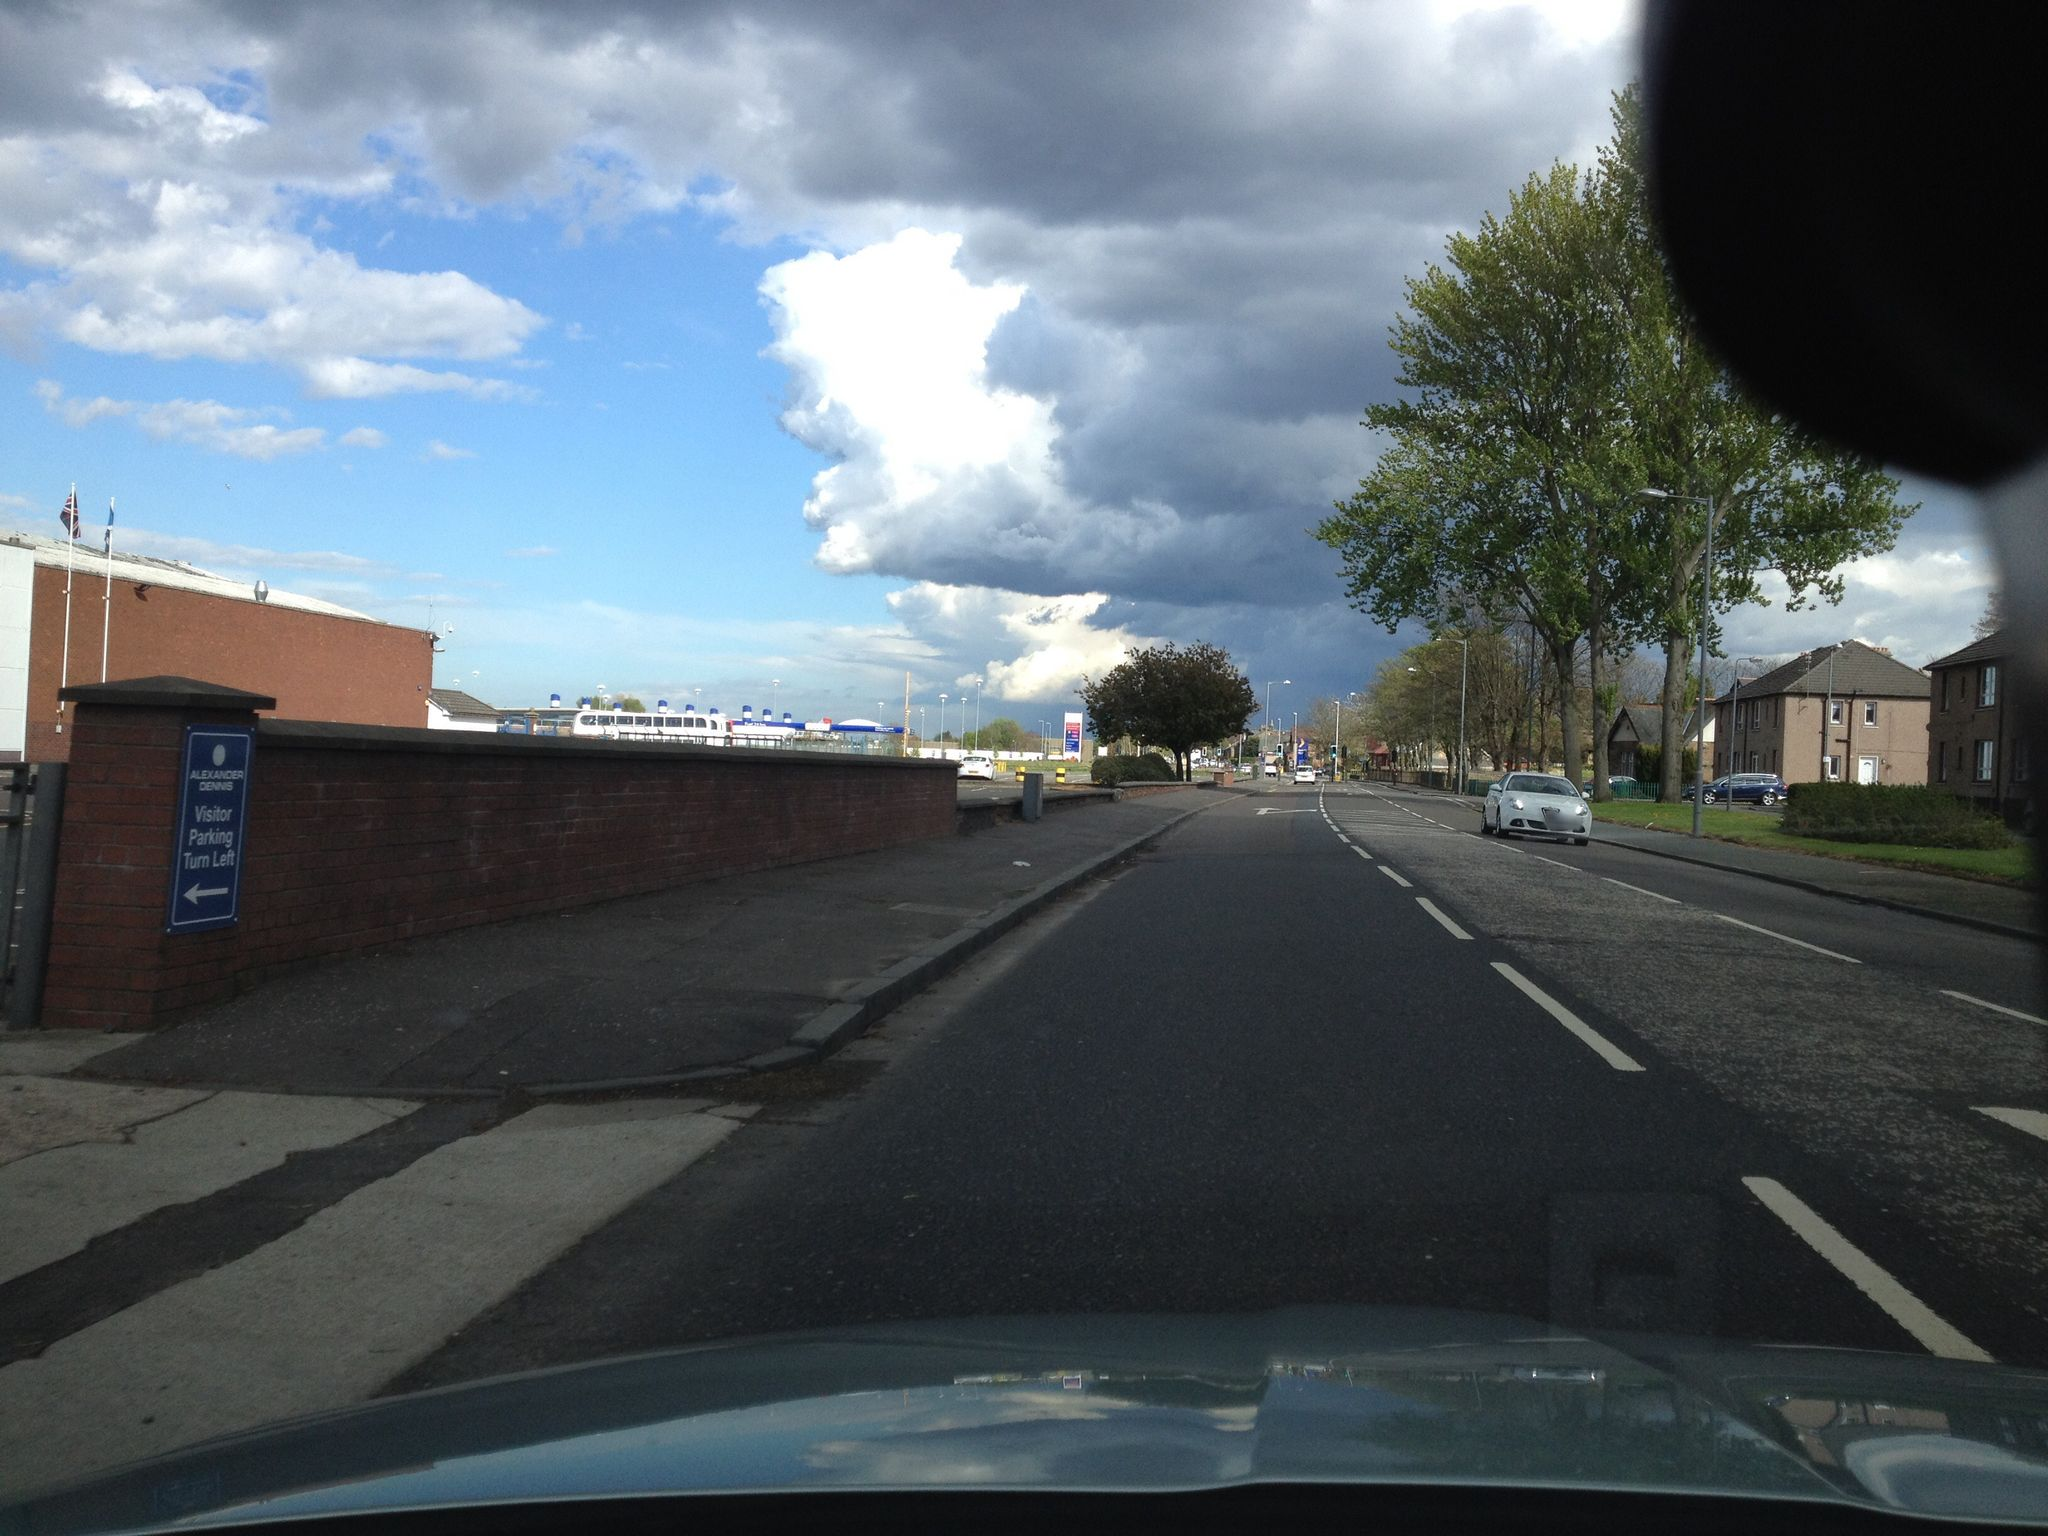car: (1480, 771, 1592, 845), (1687, 771, 1788, 807), (1293, 765, 1314, 786)
